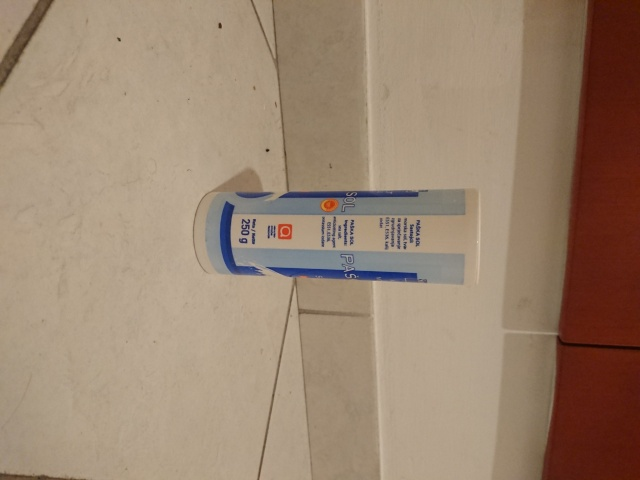Solana Pag Fine Sea Salt 250g: (190, 184, 485, 288)
